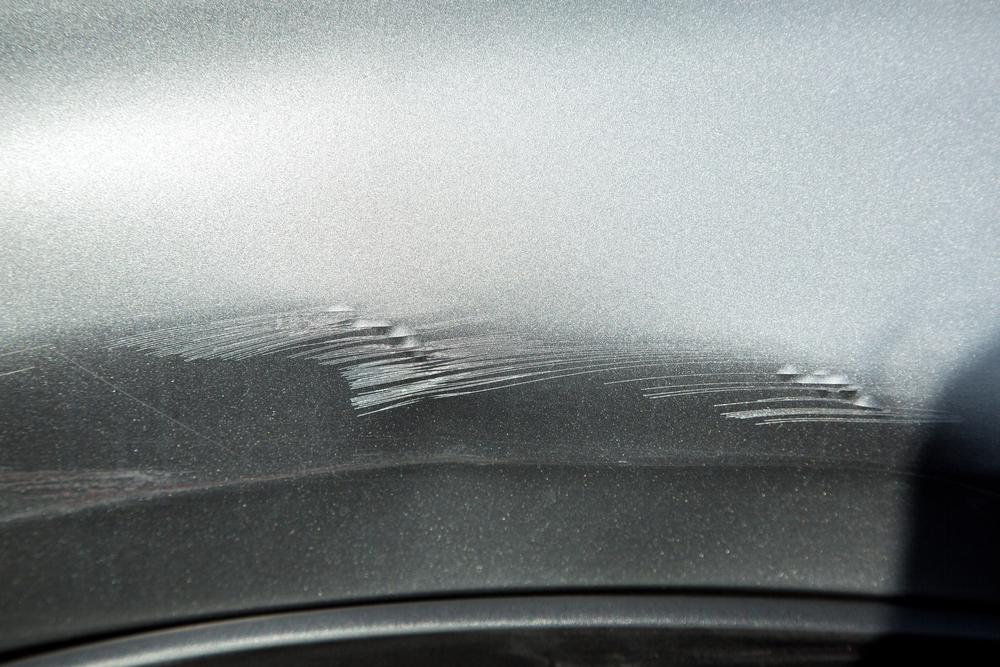scratch: (93, 304, 974, 430)
